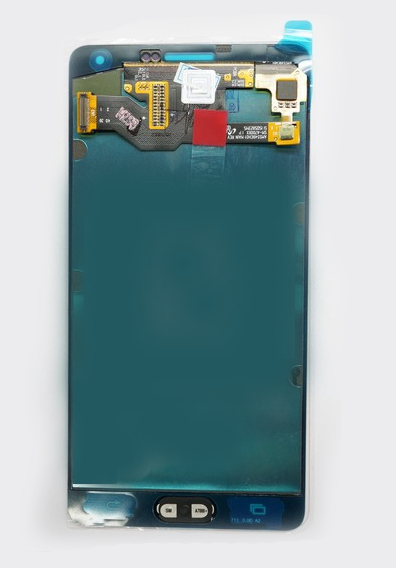Phone: (62, 19, 314, 533)
